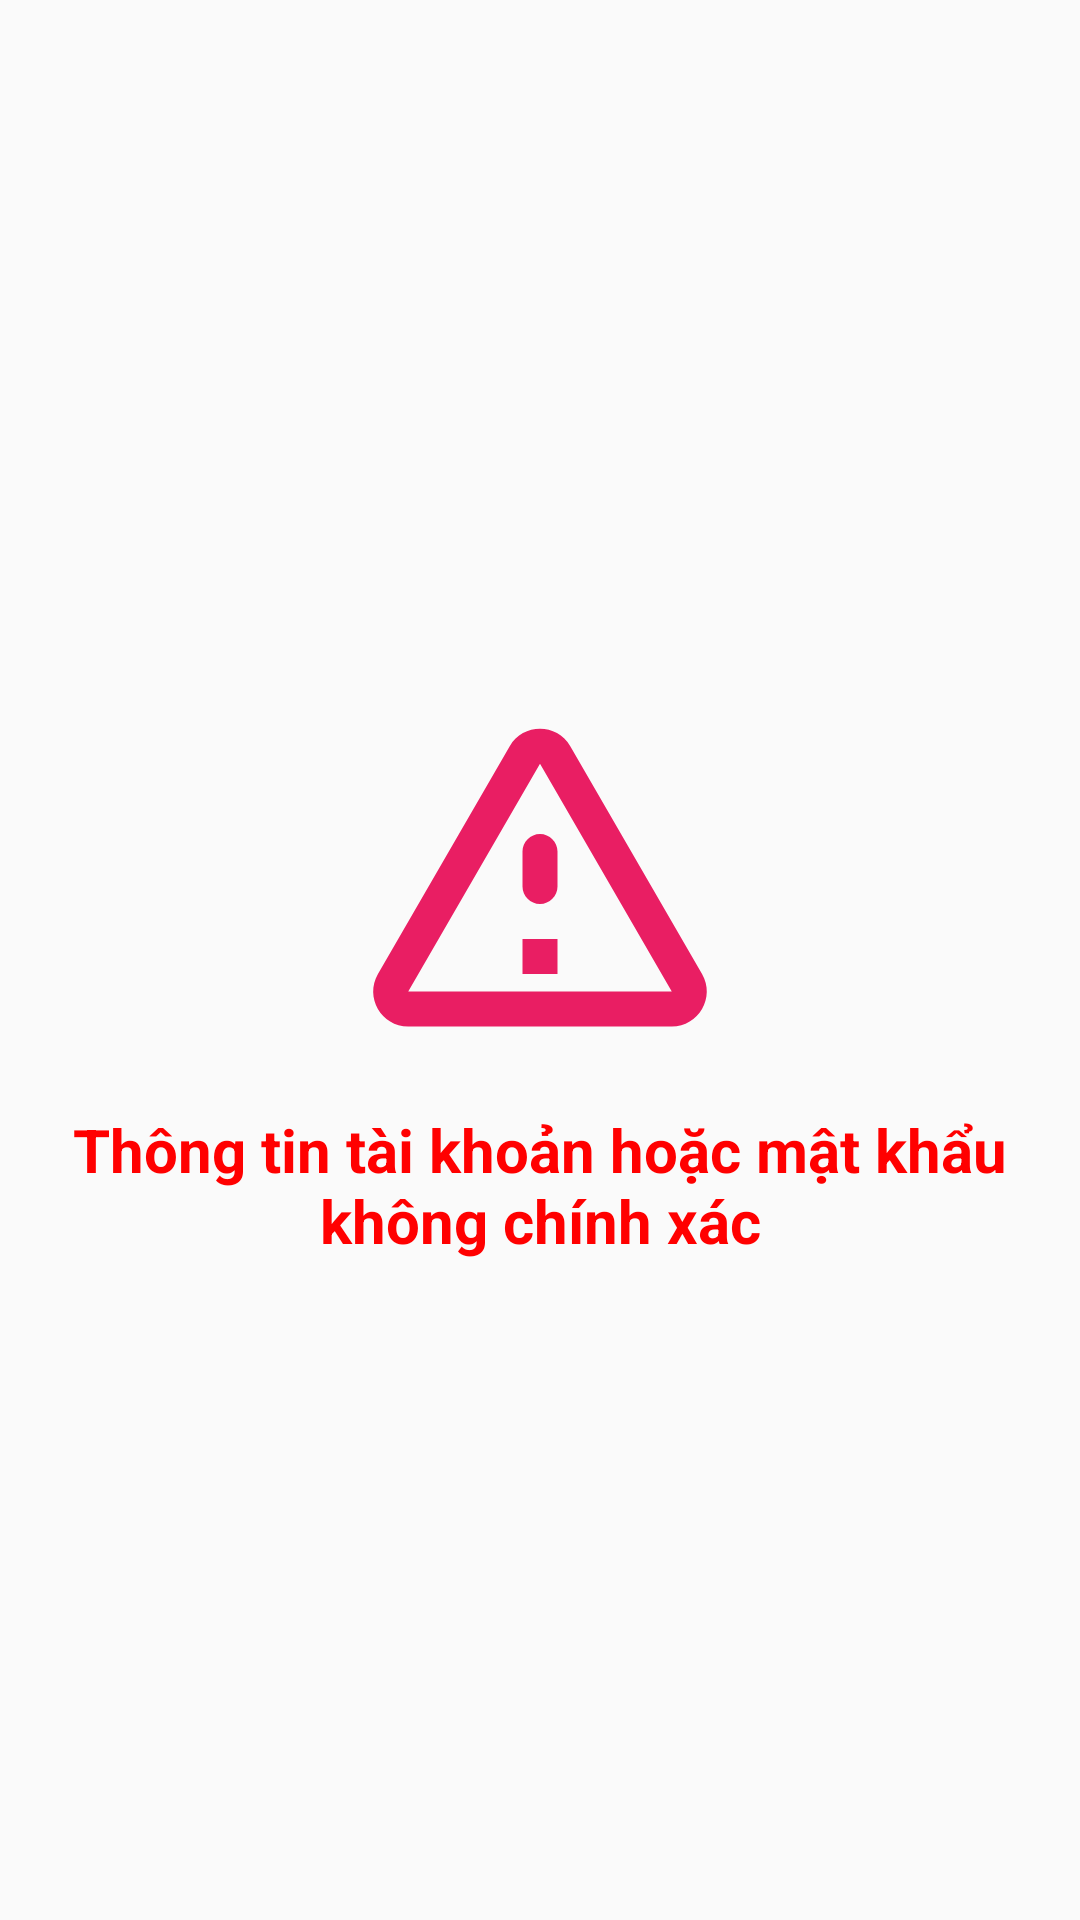

Where icons sit on this 1080x1920 app screen, as (x1, y1, x2, y2):
warning amber: (373, 728, 707, 1027)
